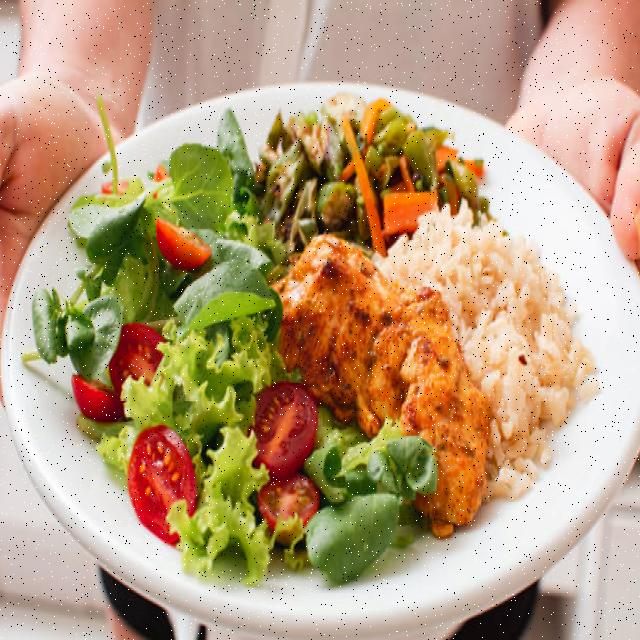Chicken: (277, 235, 489, 535)
Green veg: (23, 100, 436, 584)
Rice: (379, 205, 597, 500)
